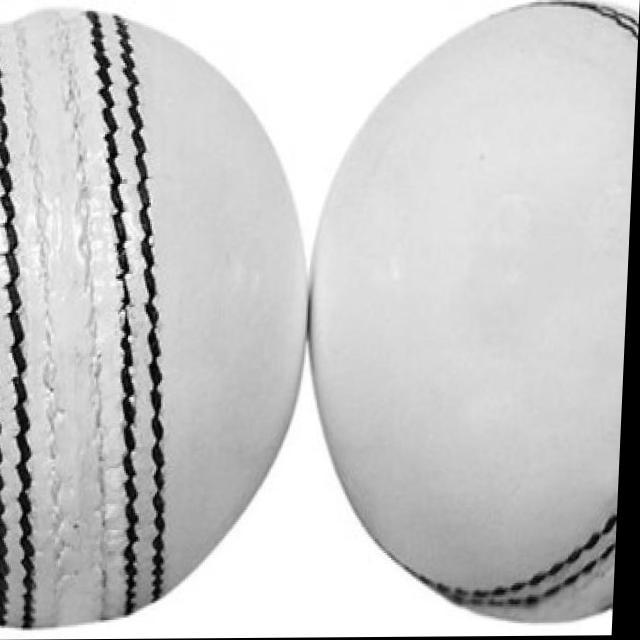cricket ball: (310, 0, 637, 628), (0, 7, 311, 632)
